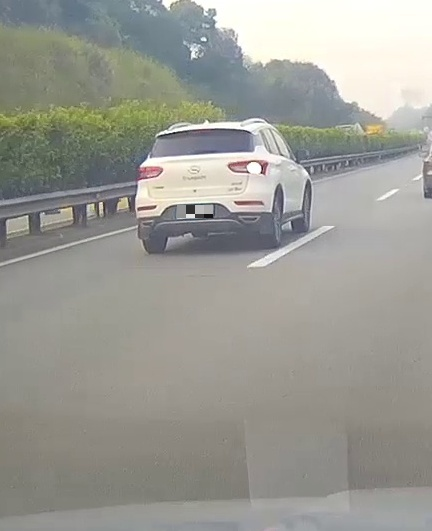L_light: (136, 165, 164, 181)
R_light: (228, 159, 269, 175)
T_light: (192, 130, 210, 132)
day-right: (134, 125, 272, 254)
plate_1: (177, 205, 213, 218)
